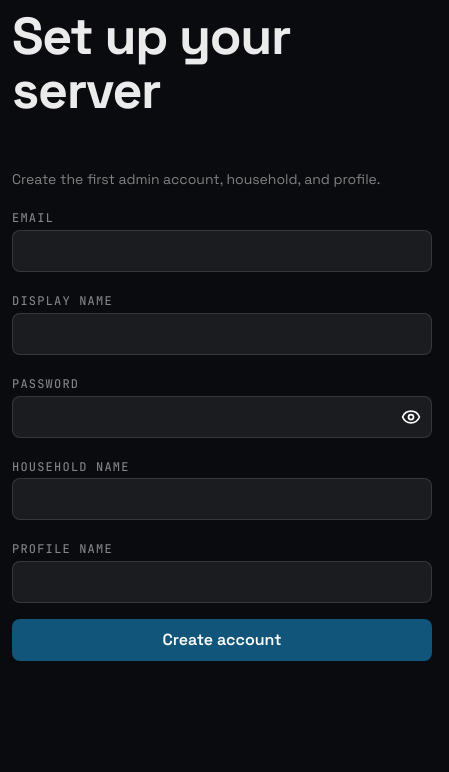
it: SetupForm › shouldShowTheServersRefusalAndPointAtSignInWhenSetupAlreadyCompleted
Type "admin@example.com" into the field labelled "Email" at (222, 251), box x1=12 y1=230 x2=432 y2=272
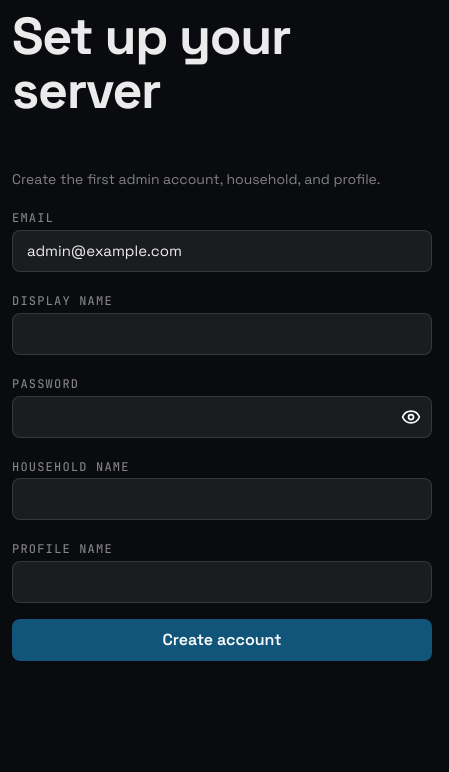
Type "Admin" into the field labelled "Display name" at (222, 334), box x1=12 y1=313 x2=432 y2=355
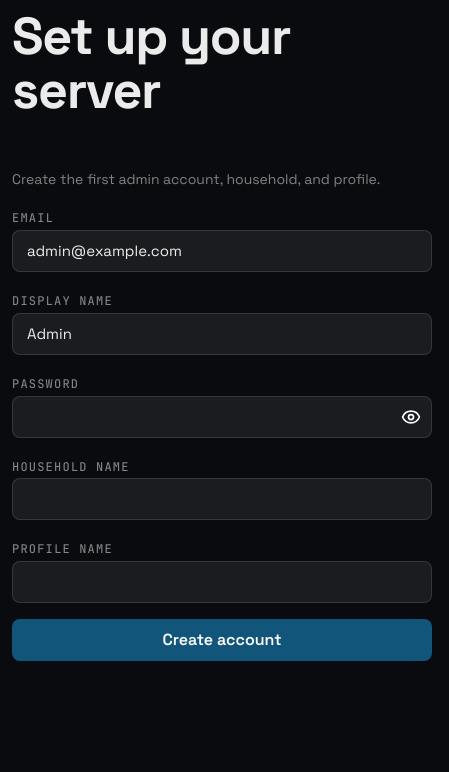
Type "correct horse battery staple" into the password field labelled "Password" at (222, 416), box x1=13 y1=396 x2=431 y2=436
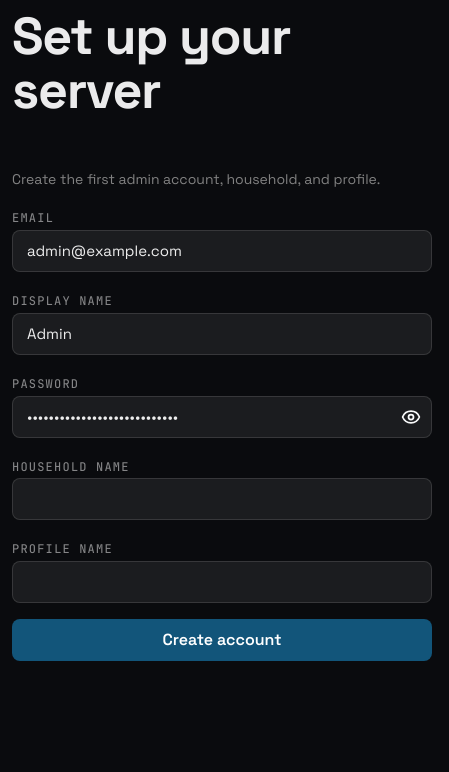
Type "Home" into the field labelled "Household name" at (222, 499), box x1=12 y1=478 x2=432 y2=520
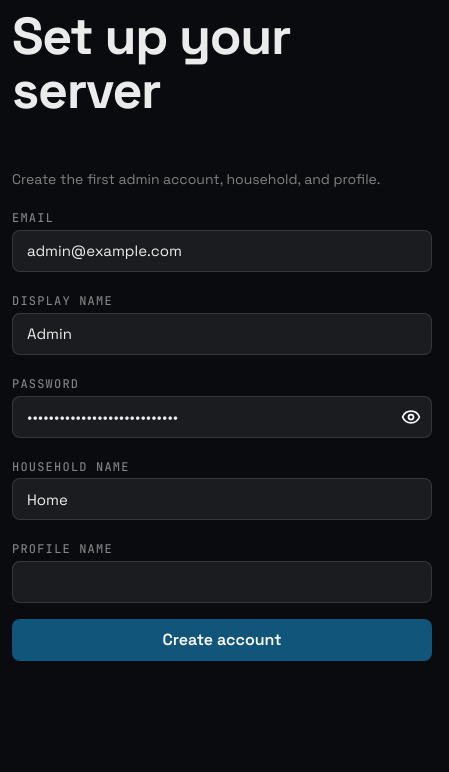
Type "Owner" into the field labelled "Profile name" at (222, 582), box x1=12 y1=561 x2=432 y2=603
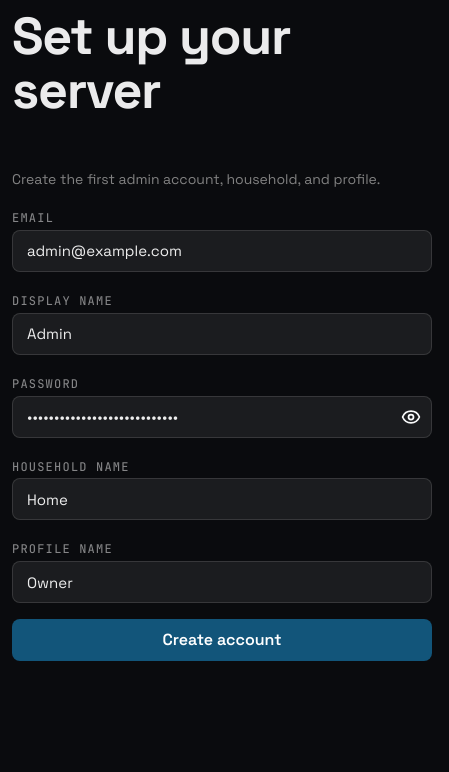
Click the button "Create account" at (222, 640), box x1=12 y1=619 x2=432 y2=661
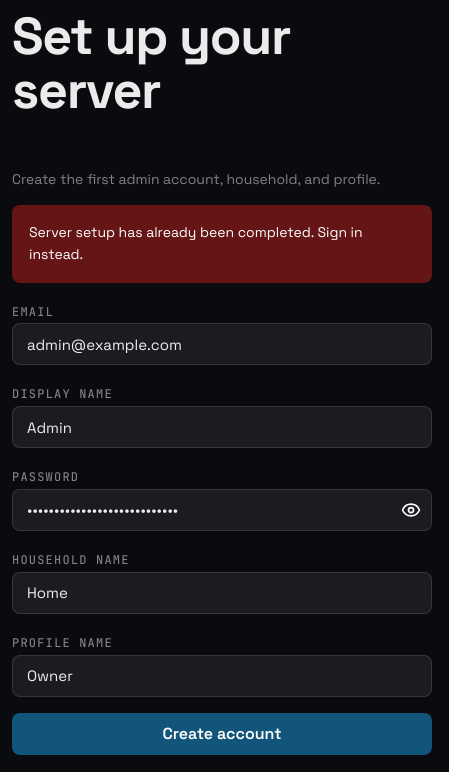
Check: the message reads "Server setup has already been completed. Sign in instead.", box x1=29 y1=223 x2=363 y2=263
